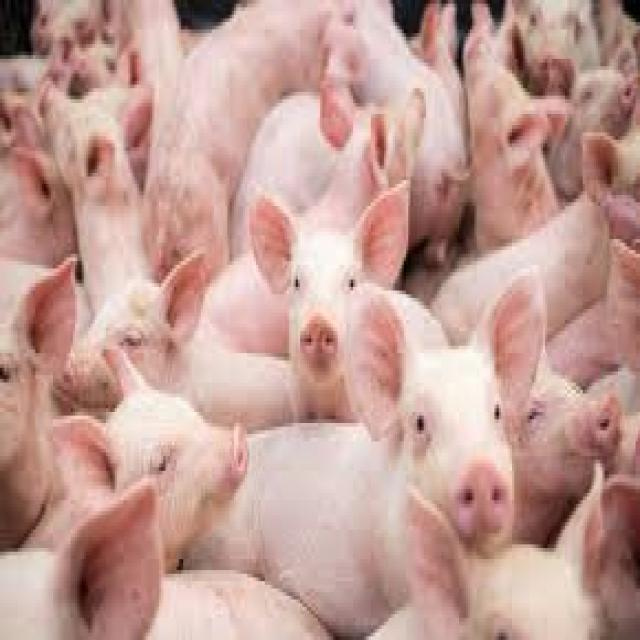pig: (185, 287, 512, 636), (252, 180, 408, 416), (106, 386, 245, 559), (514, 368, 622, 537)
